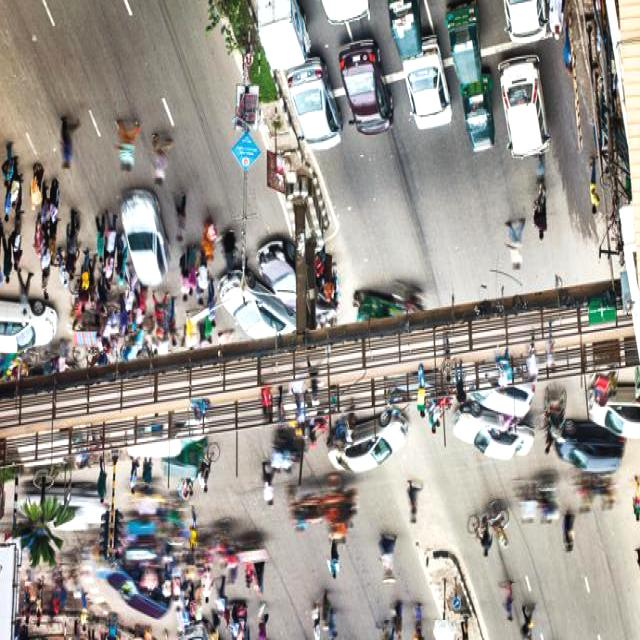black: (554, 420, 625, 472)
maroon: (335, 36, 396, 136)
silver: (327, 419, 407, 474)
white: (282, 55, 342, 150), (215, 267, 293, 339), (496, 54, 551, 154), (118, 186, 168, 286), (402, 36, 454, 130), (448, 410, 534, 458), (459, 372, 537, 416), (0, 300, 56, 349), (502, 0, 546, 39)
